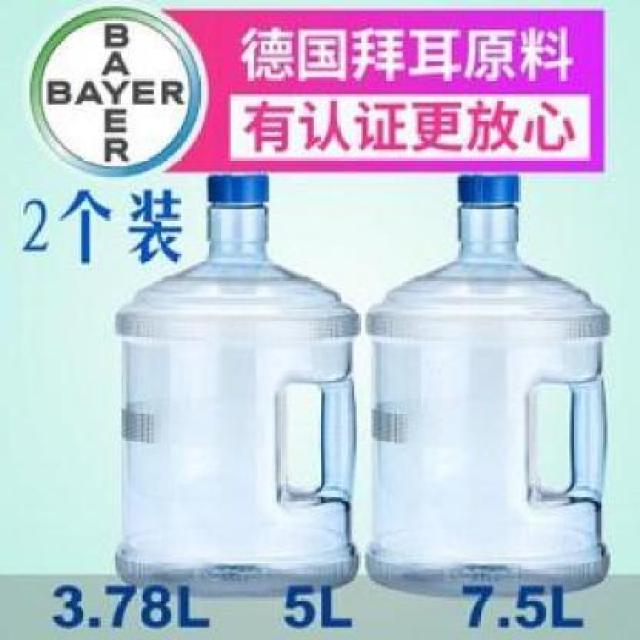coolerbottle: (113, 166, 364, 598), (364, 171, 616, 598)
